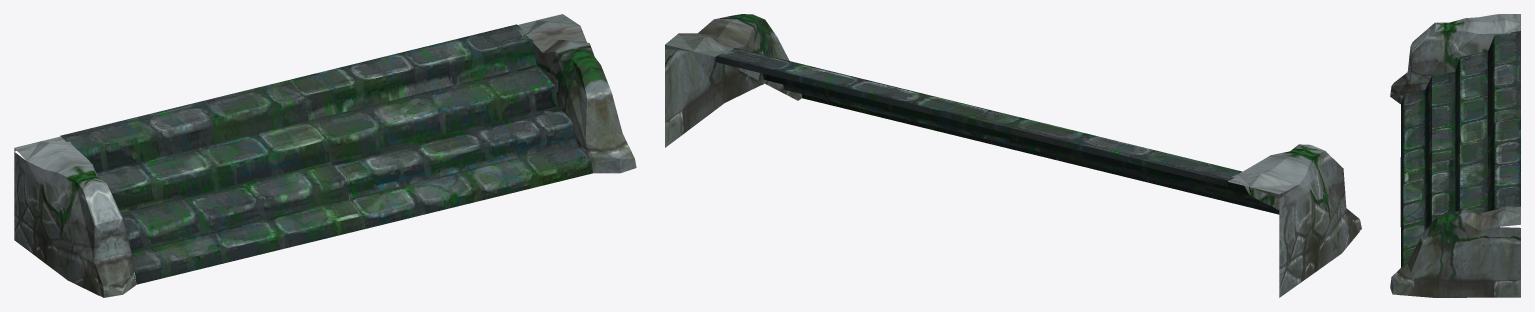
Rendered from stemple_quarter_stair_02.fbx.
3 renders of one model, left to right at view 1: azimuth 30°, elevation 25°; view 2: azimuth 150°, elevation 25°; view 3: azimuth 270°, elevation 25°, orthographic. The views are drawn at different scales.
Parts seen in each view (by area): view 1: obj1.035; view 2: obj1.035; view 3: obj1.035.
Boxes of the visible parts, left/top/right/bottom form: obj1.035: left=14, top=14, right=636, bottom=297; obj1.035: left=665, top=14, right=1361, bottom=297; obj1.035: left=1390, top=14, right=1520, bottom=297.
Bounding box in the file's own units: 8.91 × 1.51 × 2.31.
